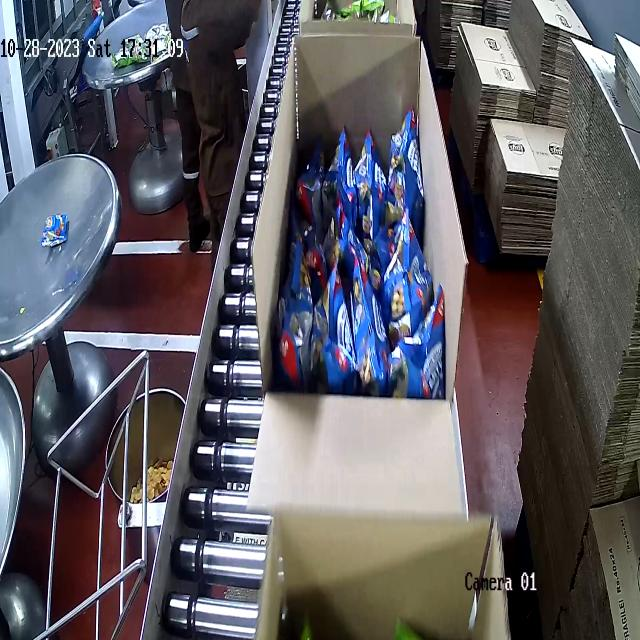PAPRIKA: (272, 127, 445, 391)
